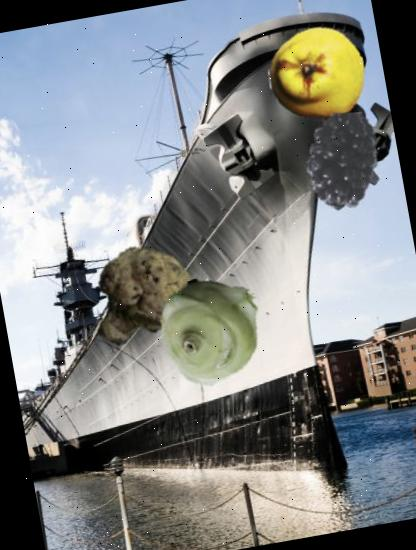Cauliflower: (82, 237, 212, 367)
Kohlrabi: (151, 266, 276, 392)
Mulberry: (284, 104, 398, 218)
Quince: (261, 17, 372, 128)
